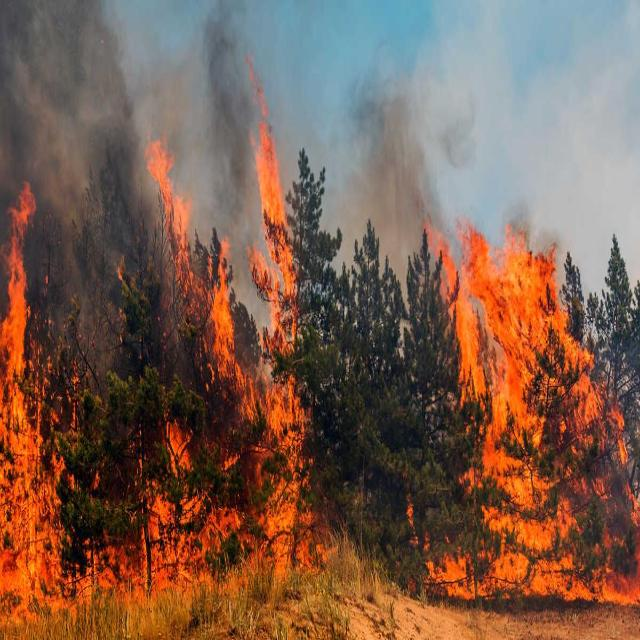fire: (439, 236, 639, 614), (0, 240, 125, 614)
smoke: (0, 0, 254, 344), (330, 78, 431, 262)
